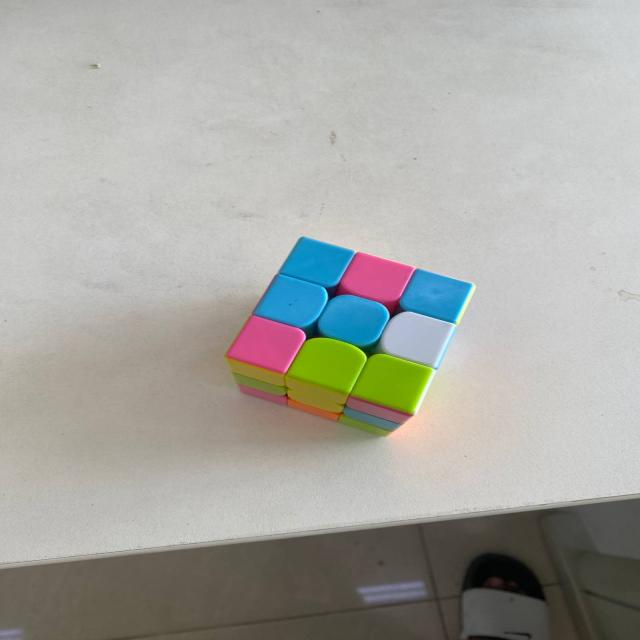Cube-3x3: (213, 248, 487, 443)
